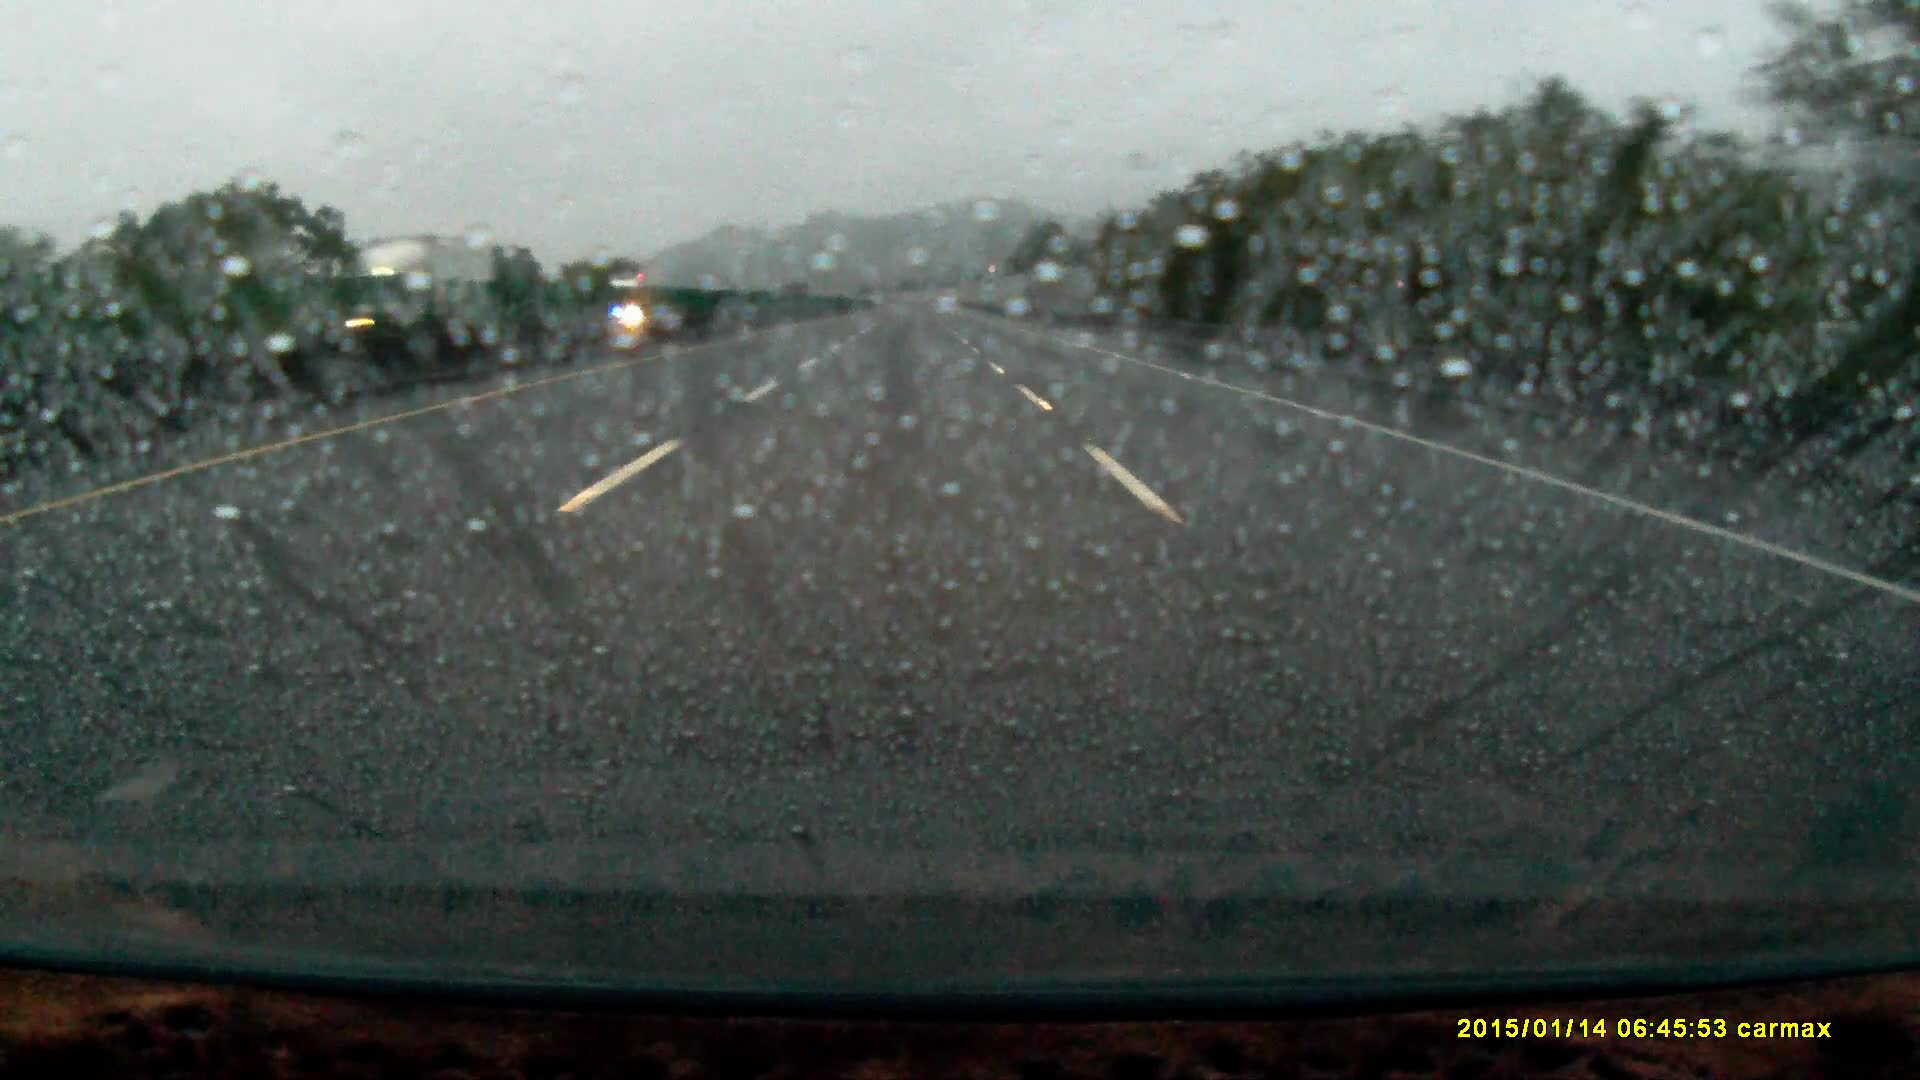vehicle: (335, 231, 514, 365), (608, 276, 665, 318)
